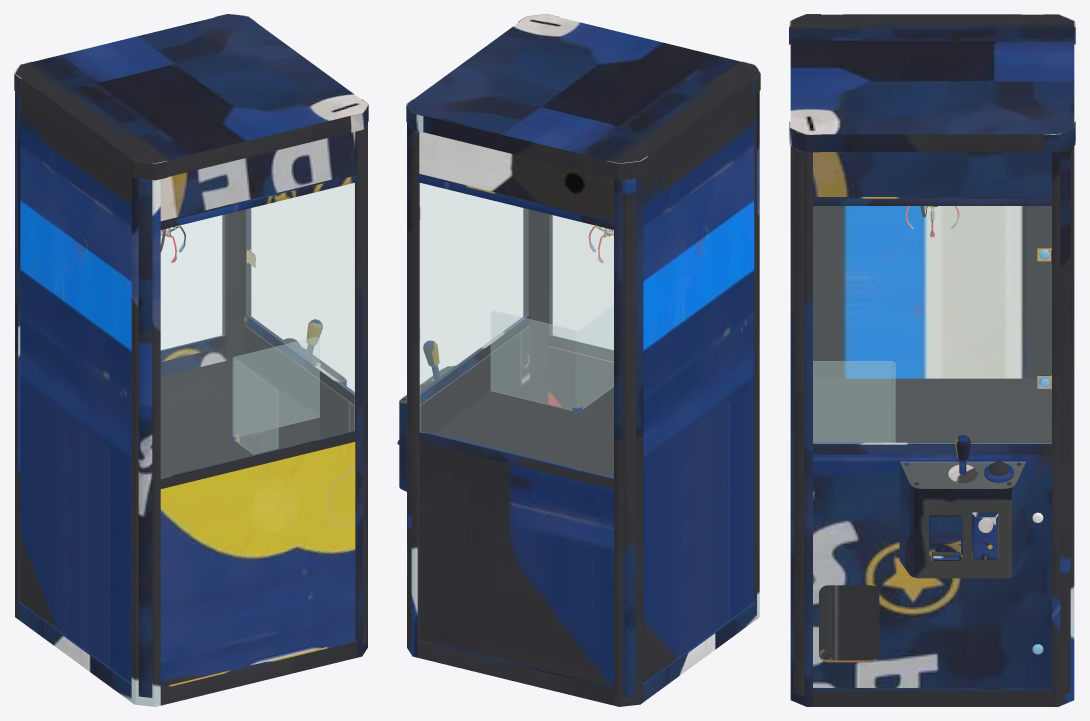
File: game.glb
3 views of the same model, side by side, from view 1: azimuth 30°, elevation 25°; view 2: azimuth 150°, elevation 25°; view 3: azimuth 270°, elevation 25° (orthographic). The views are drawn at different scales.
Parts seen in each view (by area): view 1: SM_ClawMachine_01a_LOD0; view 2: SM_ClawMachine_01a_LOD0; view 3: SM_ClawMachine_01a_LOD0.
Boxes of the visible parts, box(x1,y1,x2,y2) form: SM_ClawMachine_01a_LOD0: box(14, 14, 368, 706); SM_ClawMachine_01a_LOD0: box(397, 14, 760, 706); SM_ClawMachine_01a_LOD0: box(789, 14, 1075, 706).
Size of the model in its own units: 1.09 by 2.01 by 0.9098.
Materials: 3 (3 with a texture image).
